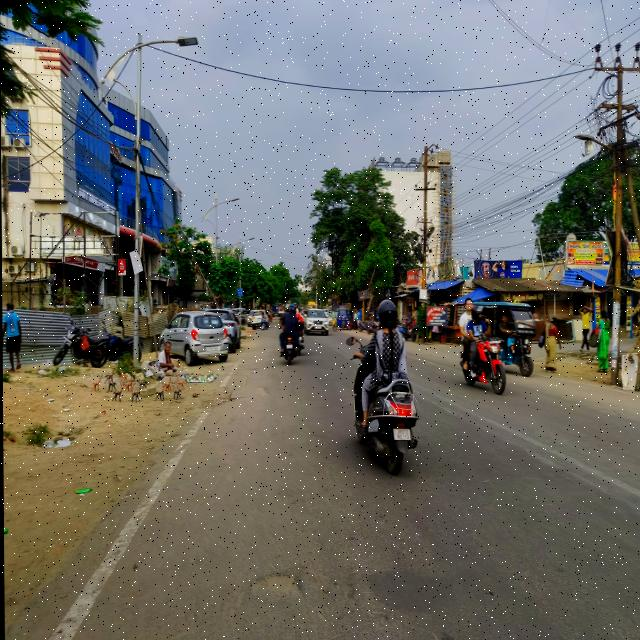bike: (351, 337, 417, 479), (455, 323, 513, 407), (54, 318, 111, 388), (101, 319, 144, 368), (274, 329, 304, 374), (358, 316, 372, 332), (368, 320, 378, 336), (260, 313, 268, 332), (326, 310, 332, 325)
car: (156, 312, 230, 364), (217, 302, 243, 351), (303, 306, 328, 340), (251, 306, 269, 333)
